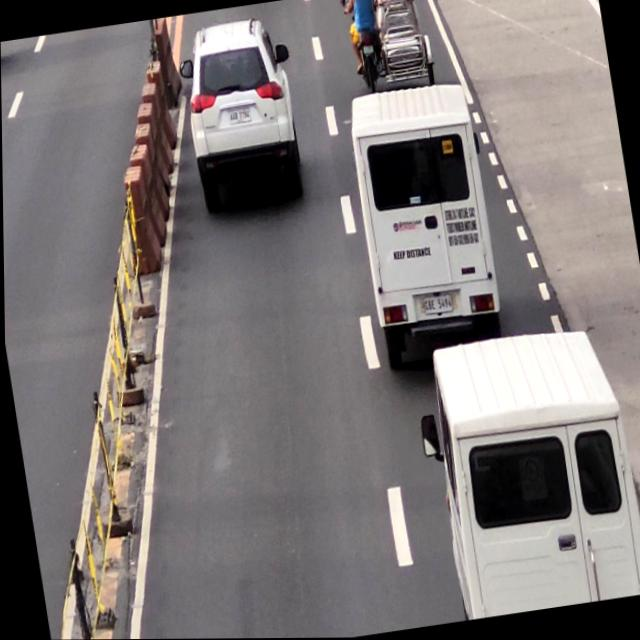Car: (173, 17, 301, 201)
Jeep: (419, 308, 640, 622), (346, 83, 500, 333)
License-Plate: (421, 292, 455, 316), (227, 105, 254, 128)
Tricycle: (341, 0, 438, 92)
